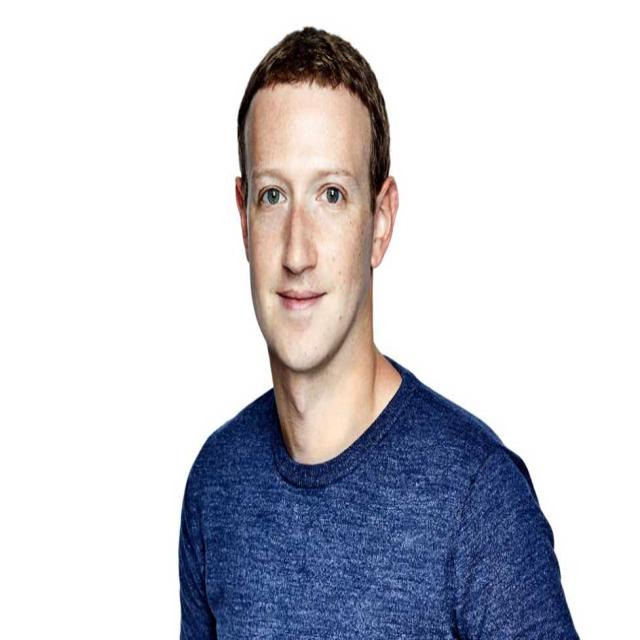adult: (173, 24, 578, 640)
